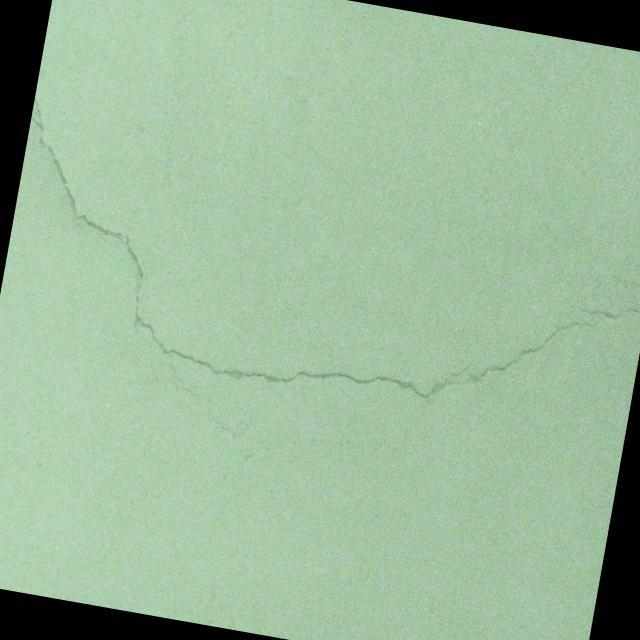crack: (0, 97, 640, 448), (154, 363, 423, 492), (610, 273, 640, 290)
